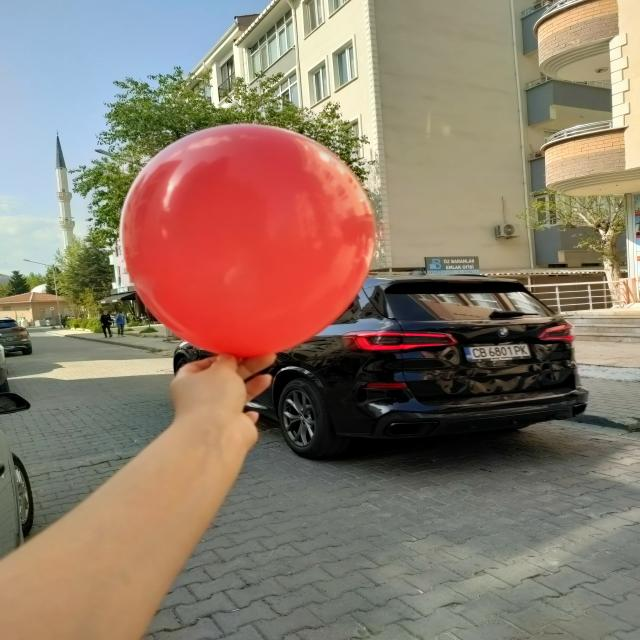red: (121, 124, 372, 358)
